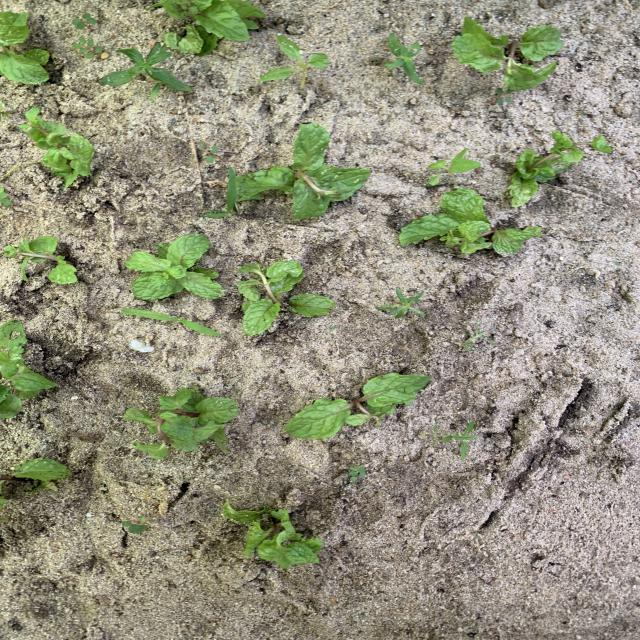crop: (236, 123, 371, 219), (285, 374, 431, 439), (399, 188, 540, 254), (124, 387, 238, 457), (452, 19, 563, 90), (508, 131, 611, 206), (238, 262, 335, 334), (126, 233, 223, 299), (222, 503, 322, 567), (151, 1, 264, 54), (20, 109, 94, 187), (1, 322, 55, 418), (1, 12, 49, 83), (1, 459, 71, 507), (7, 236, 77, 283), (429, 149, 479, 183)
weed: (101, 44, 192, 99), (263, 35, 327, 94), (124, 309, 220, 335), (387, 35, 423, 83), (205, 167, 238, 218), (378, 288, 425, 317), (444, 421, 476, 459), (73, 37, 104, 58), (452, 329, 483, 350), (122, 516, 155, 534), (499, 1, 529, 17), (473, 1, 496, 19), (420, 425, 439, 445), (199, 143, 218, 162), (489, 88, 511, 104), (348, 465, 366, 484), (72, 14, 96, 28), (1, 187, 11, 204)
